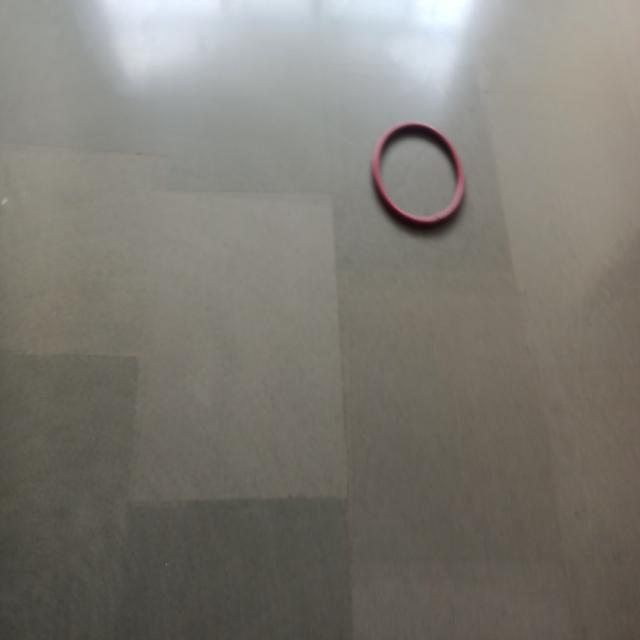daire: (375, 122, 466, 233)
